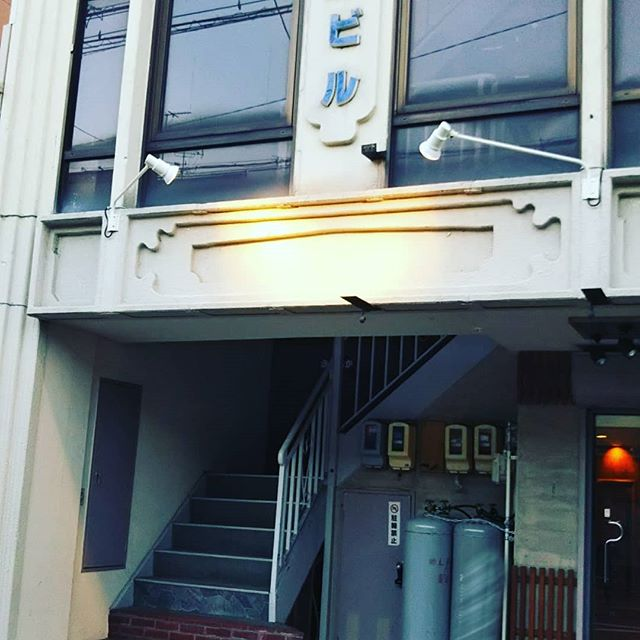window: (379, 1, 586, 204), (162, 1, 315, 195), (52, 1, 137, 215)
